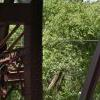Tree: (47, 1, 98, 84)
